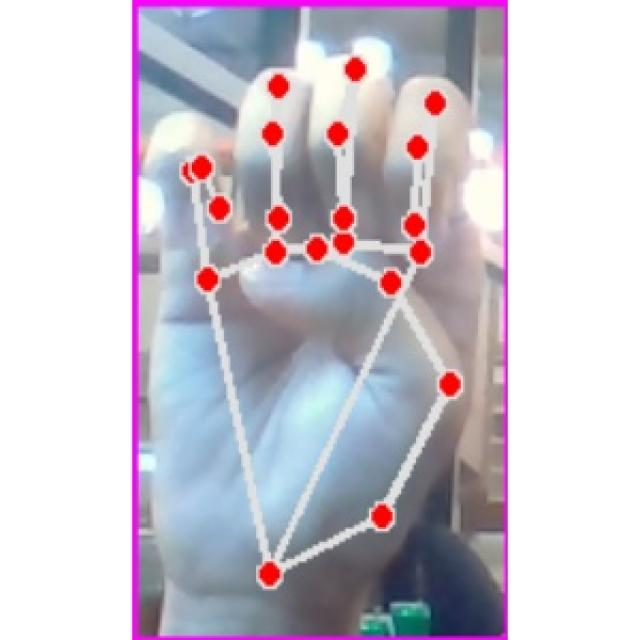E: (141, 38, 497, 615)
